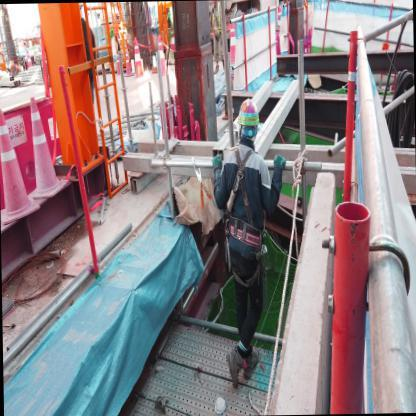safety-shoe: (224, 350, 244, 391), (244, 345, 261, 381)
